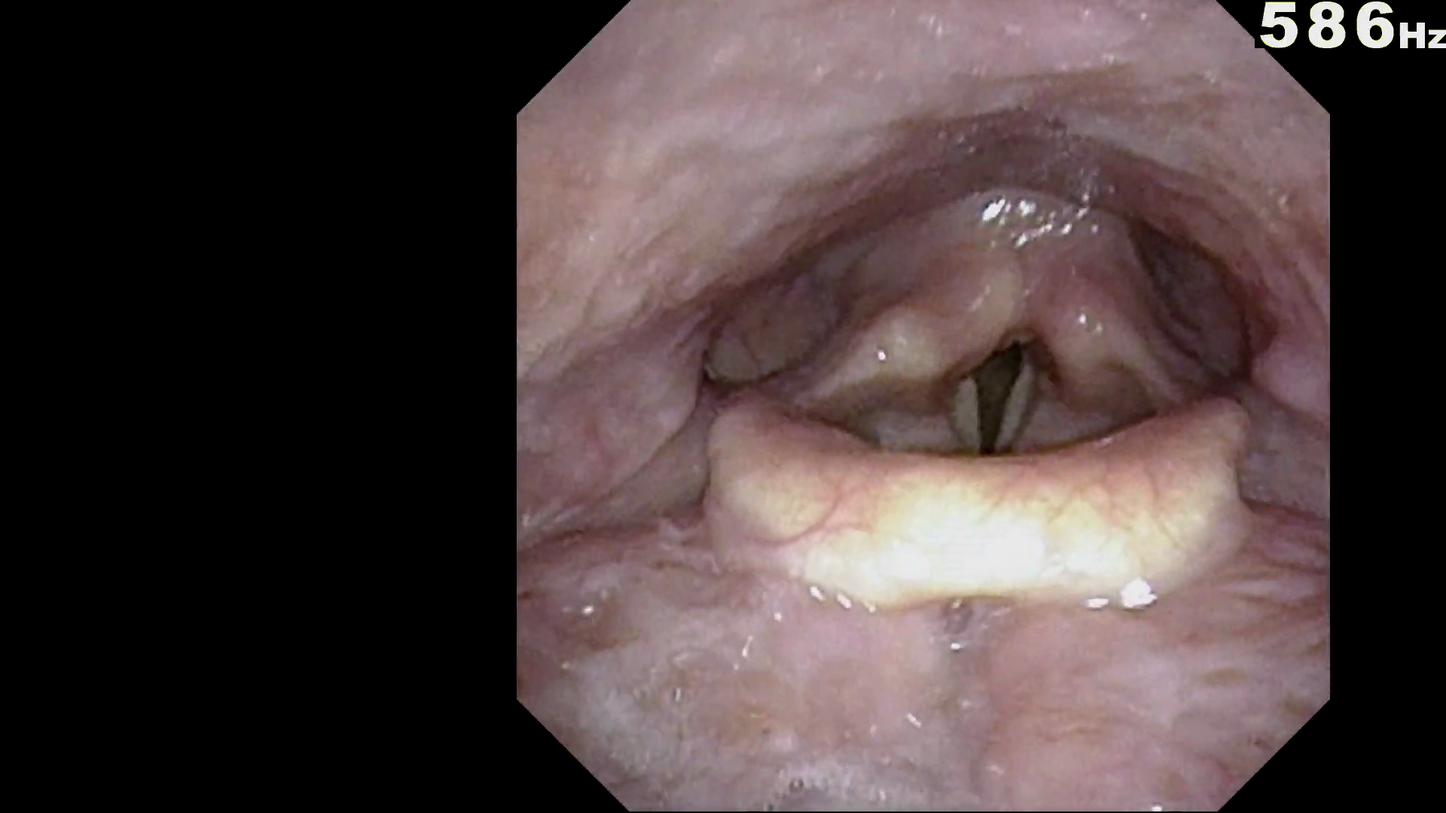epiglottis: (742, 418, 1214, 595)
trachea: (906, 301, 1092, 535)
